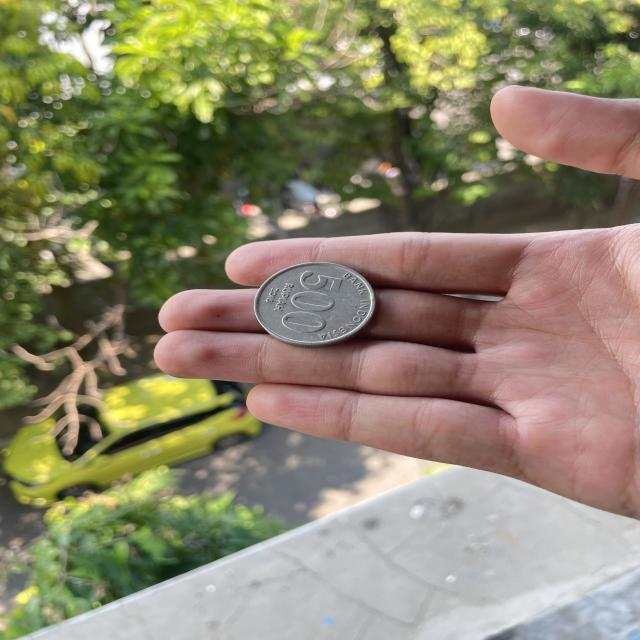500-kuning: (255, 262, 375, 346)
